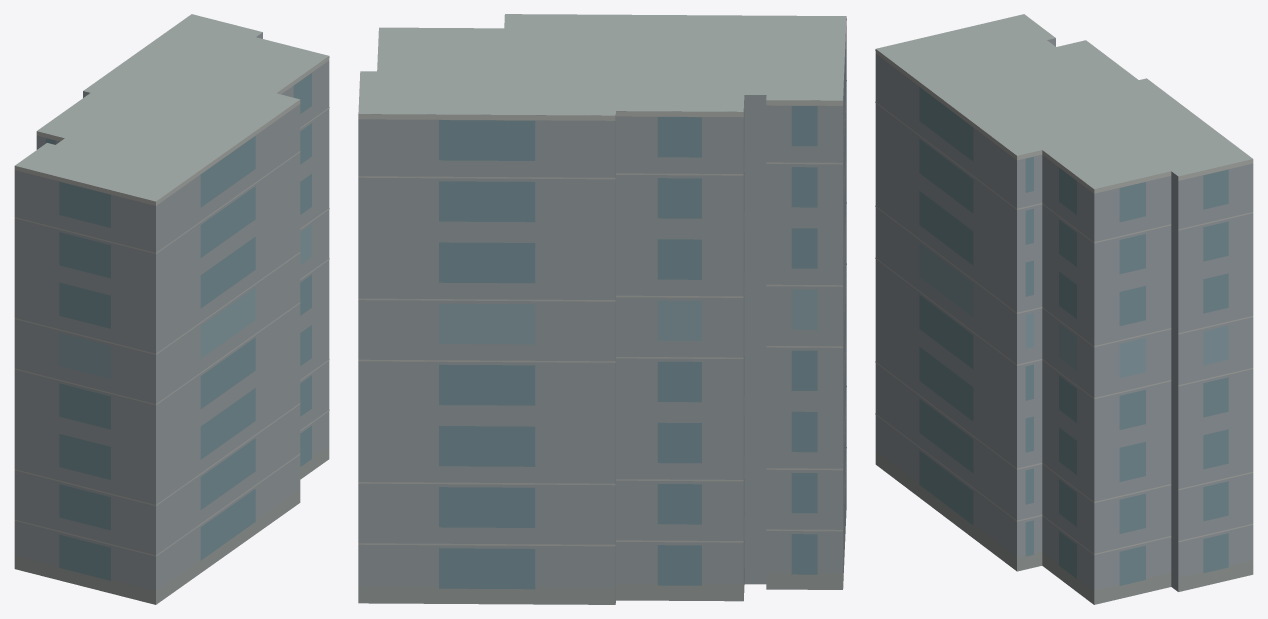
File: survey-upis-32753054.glb
3 views of the same model, side by side, from view 1: azimuth 30°, elevation 25°; view 2: azimuth 150°, elevation 25°; view 3: azimuth 270°, elevation 25° (orthographic). The views are drawn at different scales.
Visible parts, largest first — view 1: survey-upis-32753054.tmp; view 2: survey-upis-32753054.tmp; view 3: survey-upis-32753054.tmp.
Part boxes in pixels (box(x1,y1,x2,y2)): survey-upis-32753054.tmp: box(14, 14, 329, 604); survey-upis-32753054.tmp: box(358, 14, 846, 604); survey-upis-32753054.tmp: box(875, 14, 1253, 604).
Size of the model in its own units: 20.28 by 22.4 by 18.47.
